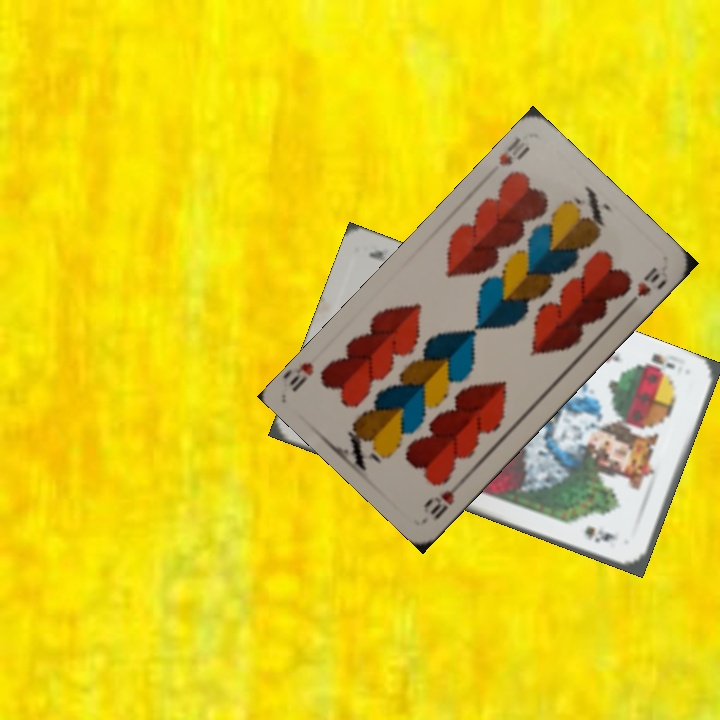H10: (420, 474, 468, 523), (494, 133, 533, 169)
SK: (633, 349, 678, 380)
